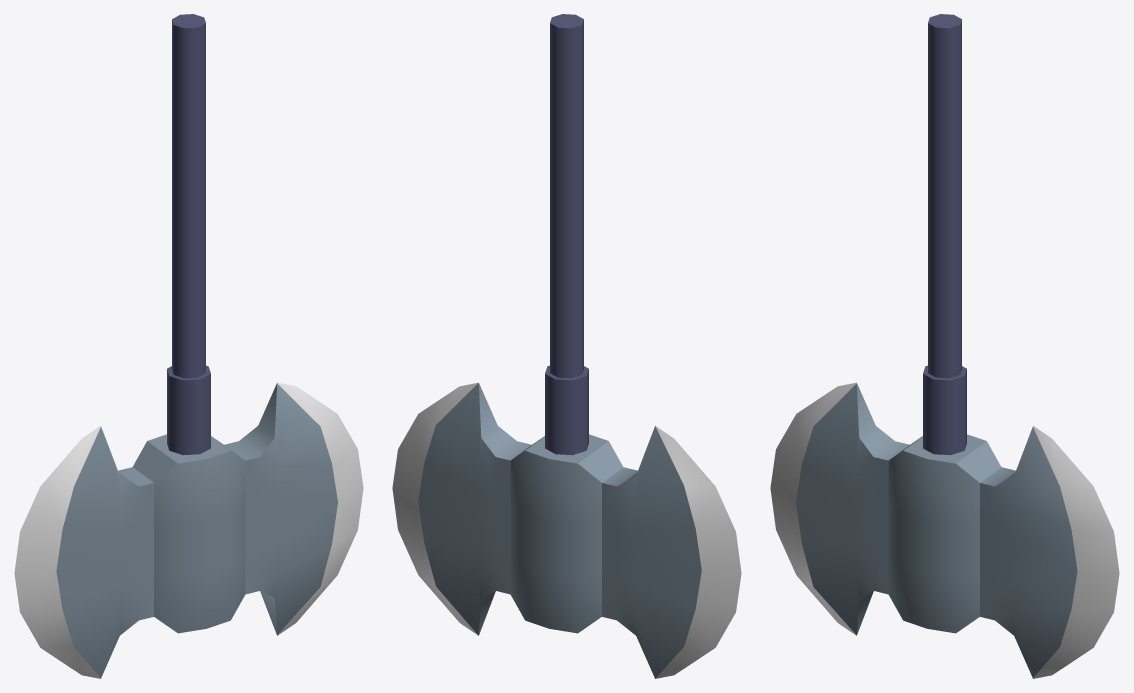
Rendered from Obstacle_Hanging_Axe_01.glb.
The picture shows the model from 3 angles, left to right: view 1: azimuth 30°, elevation 25°; view 2: azimuth 150°, elevation 25°; view 3: azimuth 330°, elevation 25°; orthographic projection.
Parts seen in each view (by area): view 1: Obstacle_Hanging_Axe_01; view 2: Obstacle_Hanging_Axe_01; view 3: Obstacle_Hanging_Axe_01.
Part boxes in pixels (x1,y1,x2,y2): Obstacle_Hanging_Axe_01: (14, 14, 363, 678); Obstacle_Hanging_Axe_01: (392, 14, 741, 678); Obstacle_Hanging_Axe_01: (770, 14, 1119, 678).
Bounding box in the file's own units: 1.86 × 3.24 × 0.379.
1 material, 1 textured.
